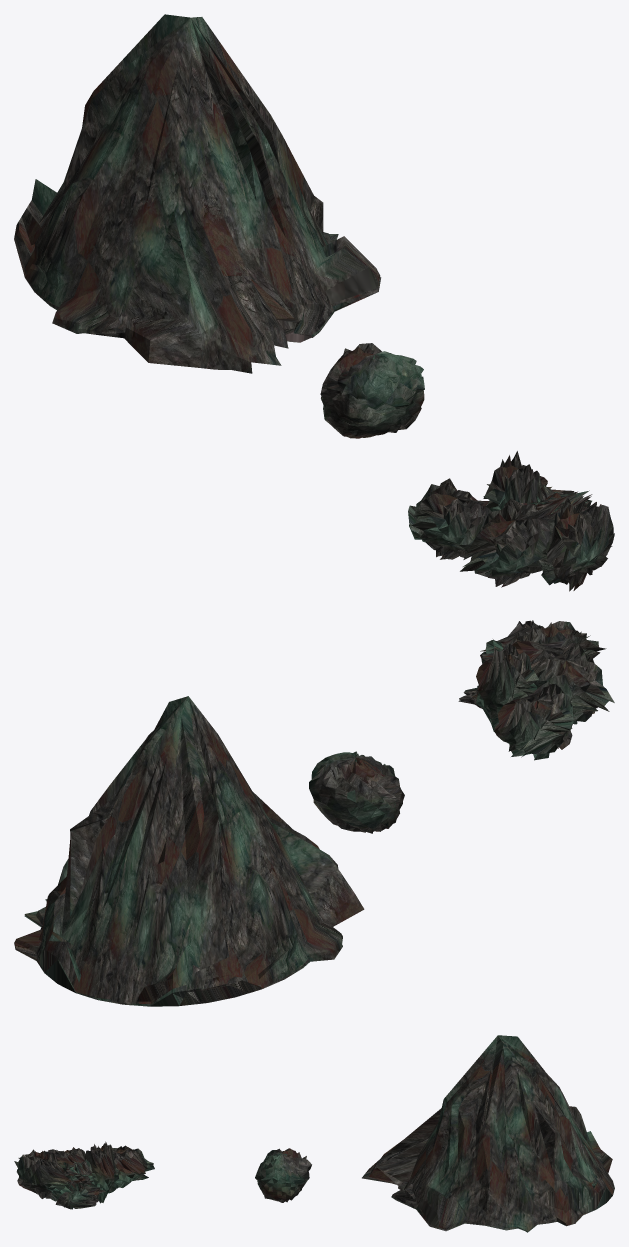
The model's file is куприт(медь).blend1.fbx.
3 views of the same model, one above another, from view 1: azimuth 30°, elevation 25°; view 2: azimuth 150°, elevation 25°; view 3: azimuth 270°, elevation 25° (orthographic). The views are drawn at different scales.
Parts seen in each view (by area): view 1: Cone, Sphere.013, Sphere.011, Sphere.009, Sphere.012, Sphere.010; view 2: Cone, Sphere.013, Sphere.012, Sphere.011, Sphere.010, Sphere.009; view 3: Cone, Sphere.013, Sphere.009, Sphere.010, Sphere.012, Sphere.005, Sphere.014, Sphere.011.
Boxes of the visible parts, x1,y1,x2,y2 form: Cone: (14, 14, 381, 373); Sphere.013: (320, 343, 424, 438); Sphere.011: (460, 497, 574, 587); Sphere.009: (539, 497, 614, 591); Sphere.012: (408, 478, 491, 559); Sphere.010: (481, 451, 551, 511); Cone: (14, 696, 364, 1006); Sphere.013: (309, 751, 404, 833); Sphere.012: (494, 681, 573, 760); Sphere.011: (512, 638, 614, 724); Sphere.010: (476, 644, 539, 731); Sphere.009: (480, 620, 606, 662); Cone: (362, 1035, 614, 1232); Sphere.013: (255, 1148, 311, 1202); Sphere.009: (14, 1149, 71, 1201); Sphere.010: (84, 1141, 118, 1203); Sphere.012: (112, 1145, 154, 1188); Sphere.005: (55, 1186, 105, 1209); Sphere.014: (62, 1159, 94, 1191); Sphere.011: (40, 1147, 85, 1167).
Bounding box in the file's own units: 664 × 595 × 1931.
1 material, 1 textured.
